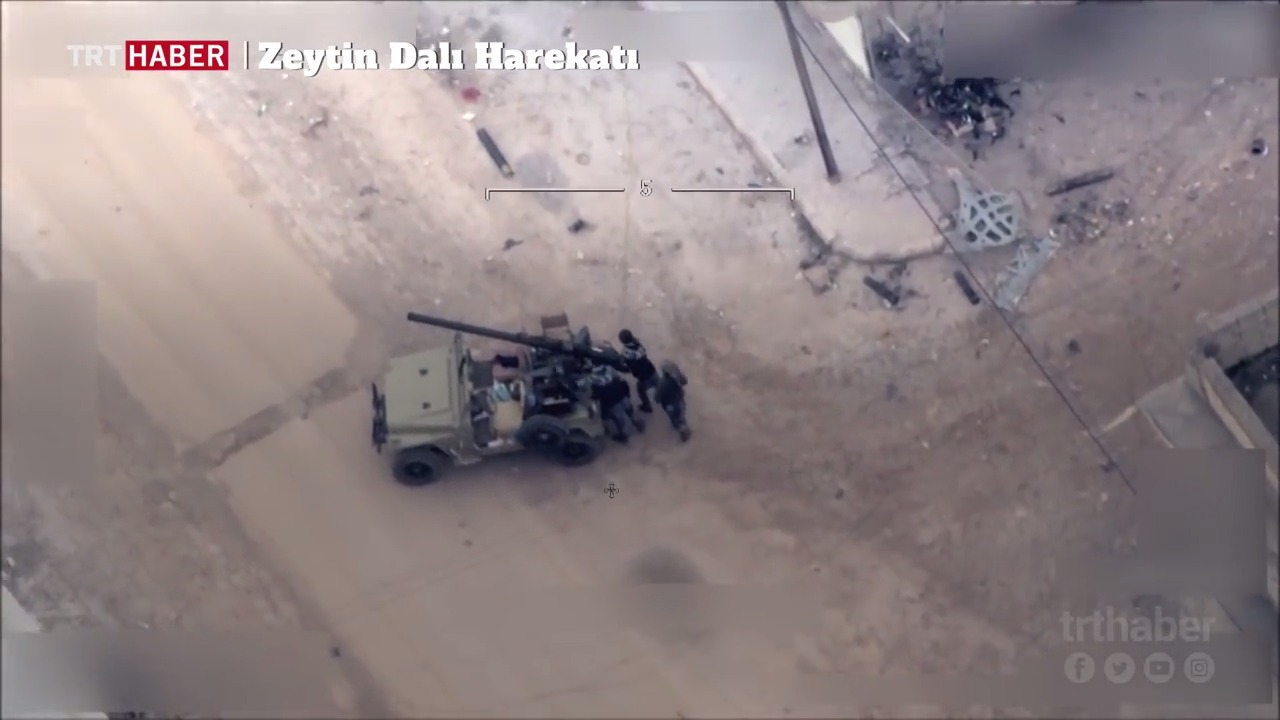arac: (356, 310, 612, 492)
insan: (654, 345, 700, 456), (614, 328, 660, 408)
